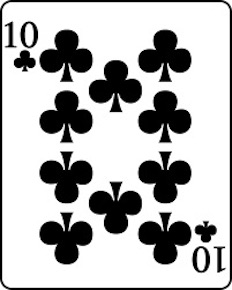TenOfClubs: (4, 4, 229, 287)
